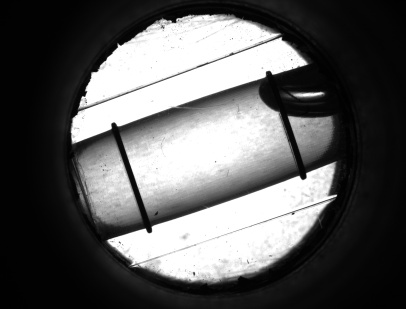line: (112, 142, 149, 210), (279, 124, 307, 158)
